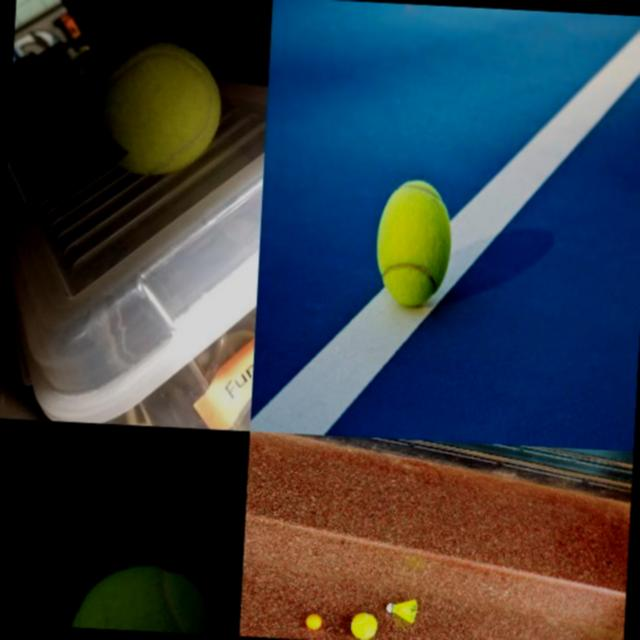tennis-ball: (82, 34, 226, 180), (70, 560, 226, 634), (372, 177, 454, 309), (349, 612, 376, 640)
